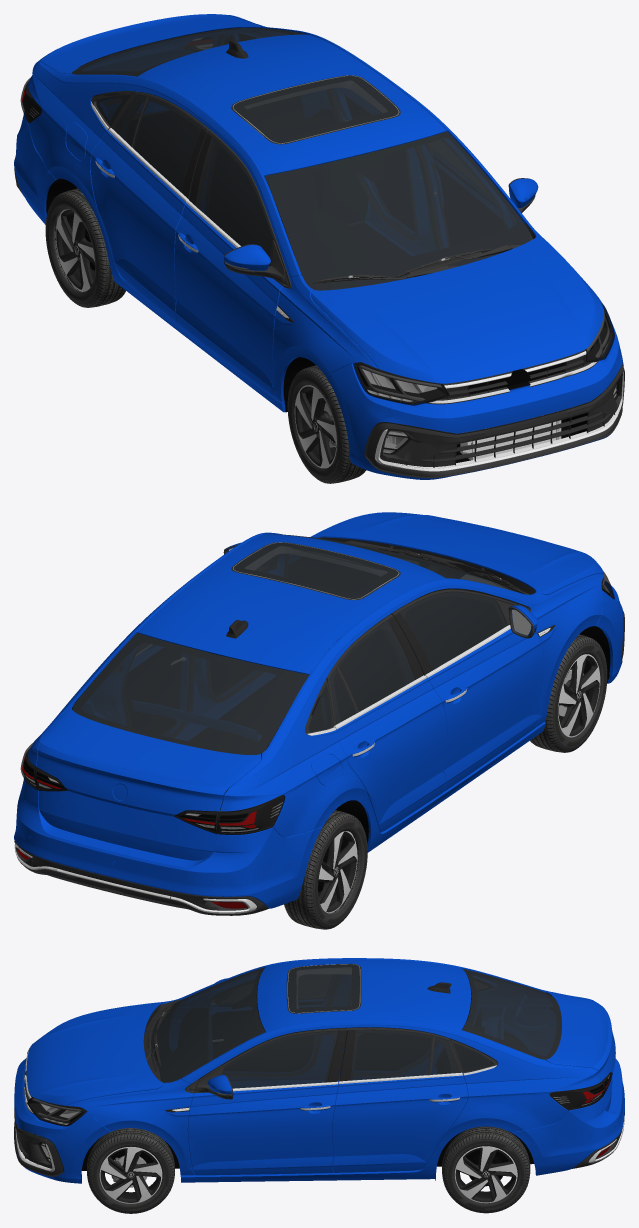
The model's file is virtus.glb.
3 views of the same model, one above another, from view 1: azimuth 30°, elevation 25°; view 2: azimuth 150°, elevation 25°; view 3: azimuth 270°, elevation 25° (orthographic). The views are drawn at different scales.
Visible parts, largest first — view 1: Ext Body#Car Paint_CarP_0, Ext Window Rear Windshield#Windows Tinted_Windwos_0, Ext Brake FL Caliper#Material Atlas_Atlas_0, Ext Door FL#Car Paint_CarP_0, Tire FL#Tires_tire_0, Ext Sunroof#Windows_D_glass_0, Ext Headlight#Glass_Glass_Light_0, Ext Headlight#Material Atlas AO_Atlas_0, Ext Body GrilleInterior#Chrome Stripes_Sripes_Chrome_0; view 2: Ext Body#Car Paint_CarP_0, Ext Window Rear Windshield#Windows Tinted_Windwos_0, Ext Door FL#Car Paint_CarP_0, Ext Brake FL Caliper#Material Atlas_Atlas_0, Tire FL#Tires_tire_0, Ext Sunroof#Windows_D_glass_0, Ext Taillight#Glass_Glass_Light_0, Ext Headlight#Material Atlas AO_Atlas_0; view 3: Ext Body#Car Paint_CarP_0, Ext Door FL#Car Paint_CarP_0, Ext Window Rear Windshield#Windows Tinted_Windwos_0, Ext Brake FL Caliper#Material Atlas_Atlas_0, Tire FL#Tires_tire_0, Ext Sunroof#Windows_D_glass_0, Ext Headlight#Material Atlas AO_Atlas_0, Ext Headlight#Glass_Glass_Light_0, Ext Taillight#Glass_Glass_Light_0.
Part boxes in pixels (x1,y1,x2,y2): Ext Body#Car Paint_CarP_0: [14, 14, 623, 479]; Ext Window Rear Windshield#Windows Tinted_Windwos_0: [72, 27, 531, 290]; Ext Brake FL Caliper#Material Atlas_Atlas_0: [14, 27, 624, 478]; Ext Door FL#Car Paint_CarP_0: [90, 131, 538, 394]; Tire FL#Tires_tire_0: [45, 188, 366, 483]; Ext Sunroof#Windows_D_glass_0: [233, 75, 398, 142]; Ext Headlight#Glass_Glass_Light_0: [353, 303, 618, 454]; Ext Headlight#Material Atlas AO_Atlas_0: [22, 82, 617, 453]; Ext Body GrilleInterior#Chrome Stripes_Sripes_Chrome_0: [225, 262, 556, 459]; Ext Body#Car Paint_CarP_0: [14, 512, 623, 908]; Ext Window Rear Windshield#Windows Tinted_Windwos_0: [72, 534, 517, 754]; Ext Door FL#Car Paint_CarP_0: [224, 542, 544, 832]; Ext Brake FL Caliper#Material Atlas_Atlas_0: [14, 537, 624, 915]; Tire FL#Tires_tire_0: [284, 634, 607, 929]; Ext Sunroof#Windows_D_glass_0: [233, 542, 398, 598]; Ext Taillight#Glass_Glass_Light_0: [20, 627, 536, 834]; Ext Headlight#Material Atlas AO_Atlas_0: [18, 576, 612, 908]; Ext Body#Car Paint_CarP_0: [14, 958, 624, 1183]; Ext Door FL#Car Paint_CarP_0: [187, 978, 467, 1175]; Ext Window Rear Windshield#Windows Tinted_Windwos_0: [151, 967, 561, 1088]; Ext Brake FL Caliper#Material Atlas_Atlas_0: [14, 963, 624, 1203]; Tire FL#Tires_tire_0: [87, 1126, 530, 1213]; Ext Sunroof#Windows_D_glass_0: [288, 964, 359, 1012]; Ext Headlight#Material Atlas AO_Atlas_0: [29, 1072, 611, 1162]; Ext Headlight#Glass_Glass_Light_0: [27, 1048, 86, 1162]; Ext Taillight#Glass_Glass_Light_0: [216, 1030, 612, 1110].
Size of the model in its own units: 1.98 by 1.53 by 4.56.
Materials: 13 (2 with a texture image).
